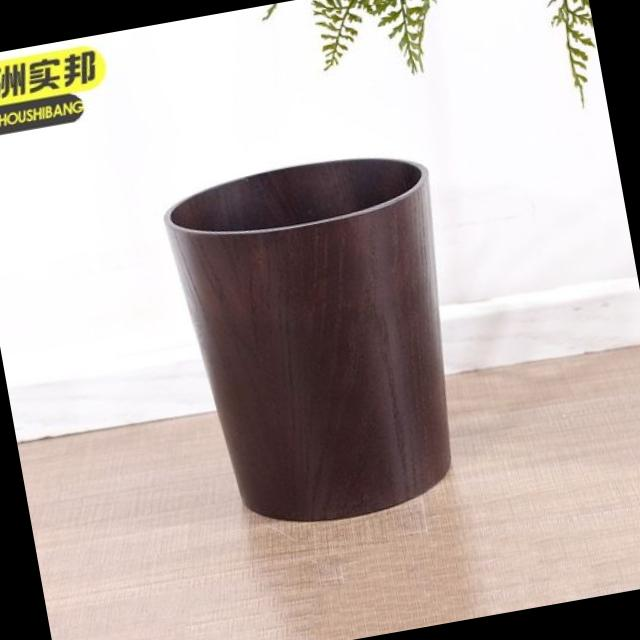dustbin: (152, 134, 491, 546)
